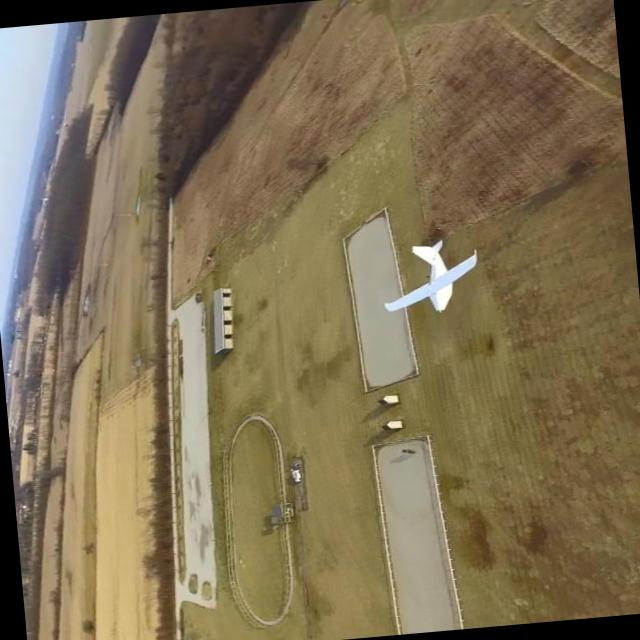UAV: (366, 186, 530, 332)
